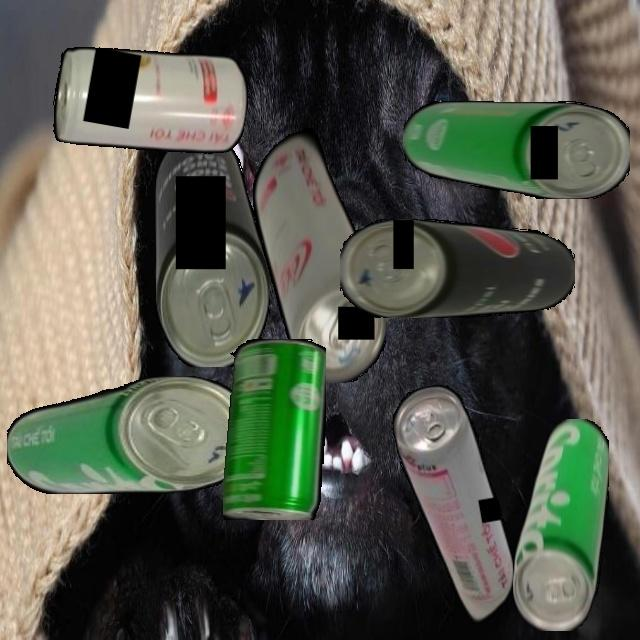debris: (252, 116, 386, 383), (387, 378, 522, 632), (47, 29, 255, 172), (6, 376, 253, 494), (154, 131, 270, 367), (340, 218, 575, 318), (402, 101, 630, 199), (512, 418, 609, 631), (222, 339, 326, 520)
